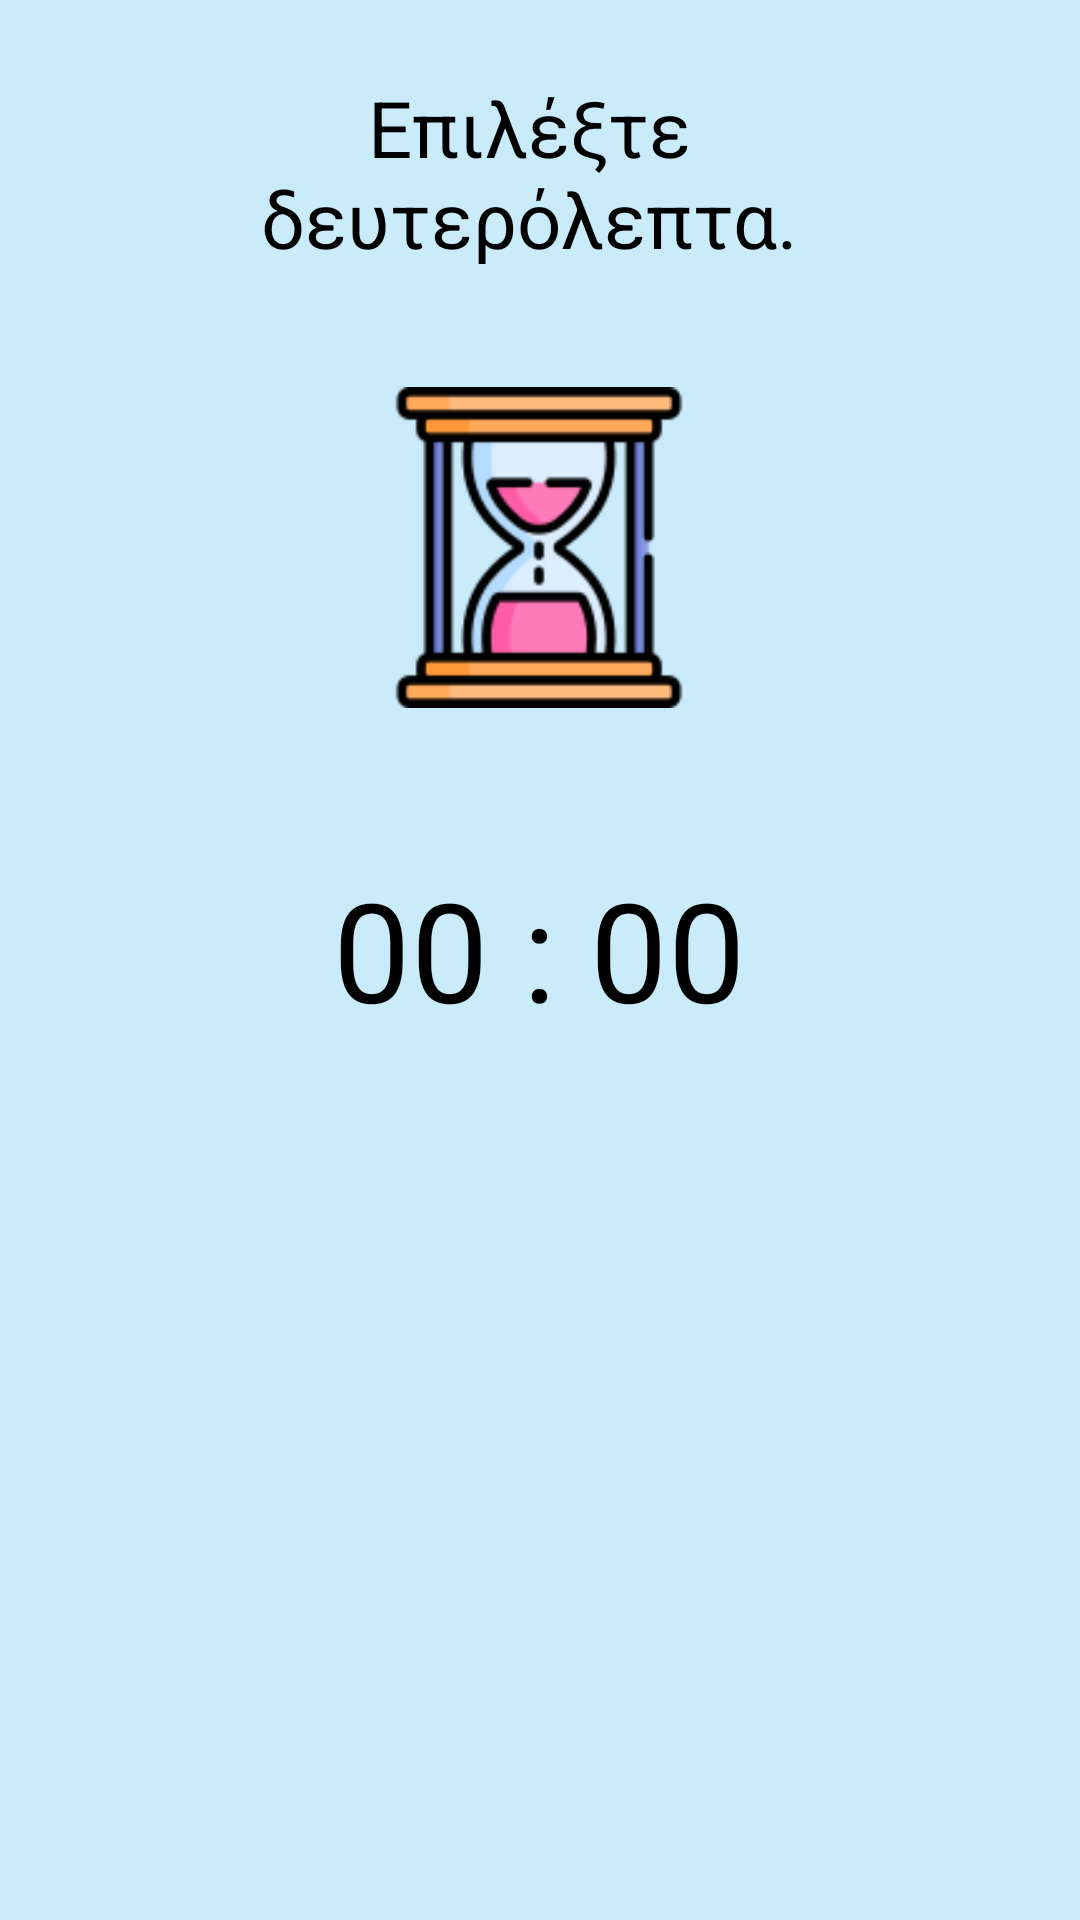

Icon bounding boxes for this 1080w x 1920h phone screenshot, format (x1, y1, x2, y2):
hourglass: (395, 387, 683, 708)
